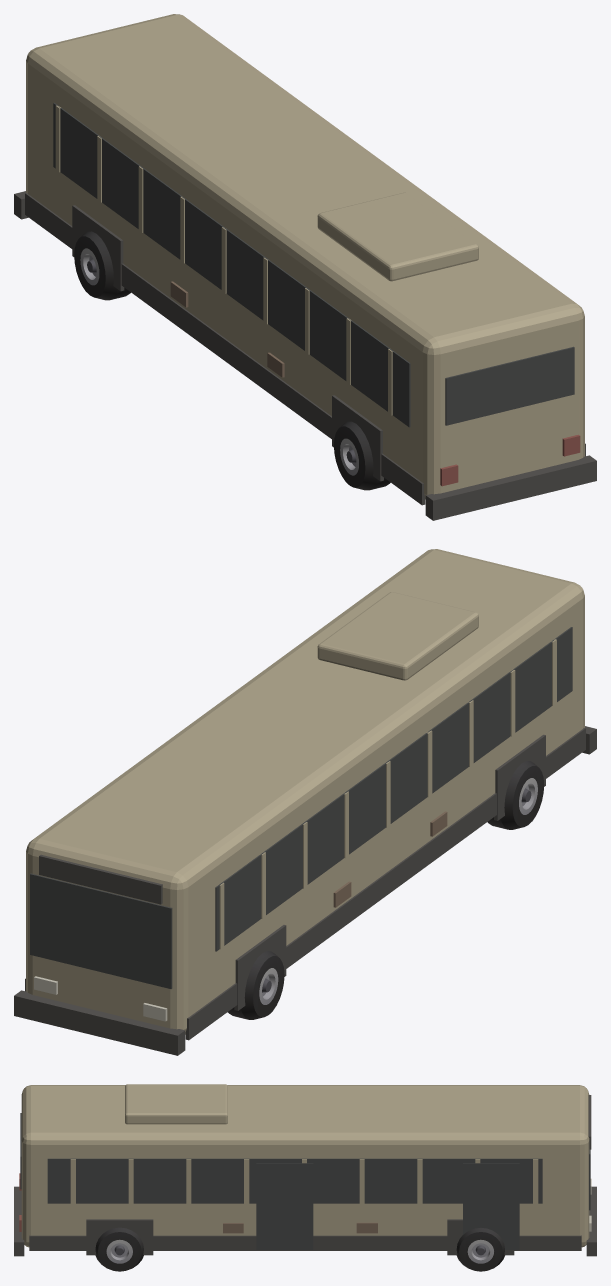
The model's file is bus.glb.
3 renders of one model, top to bottom at view 1: azimuth 30°, elevation 25°; view 2: azimuth 150°, elevation 25°; view 3: azimuth 270°, elevation 25°, orthographic. The views are drawn at different scales.
Visible parts, largest first — view 1: Cube, Cube.001, Cube.046, Cube.011, Cube.038, Cube.045, wheel-truck.001, wheel-truck, Cube.013, Cube.012; view 2: Cube, Cube.001, Cube.037, Cube.046, Cube.011, Cube.044, Cube.039, wheel-truck, wheel-truck.001, Cube.013, Cube.012; view 3: Cube, Cube.018, Cube.028, Cube.036, Cube.046, Cube.035, wheel-truck.002, wheel-truck.003, Cube.029, Cube.045, Cube.030, Cube.044 (+7 smaller).
Boxes of the visible parts, box(x1,y1,x2,y2) form: Cube: box(26, 14, 584, 499); Cube.001: box(53, 102, 410, 427); Cube.046: box(317, 192, 478, 281); Cube.011: box(25, 193, 425, 505); Cube.038: box(445, 346, 574, 425); Cube.045: box(425, 455, 596, 520); wheel-truck.001: box(74, 231, 130, 300); wheel-truck: box(334, 421, 390, 490); Cube.013: box(72, 205, 124, 291); Cube.012: box(332, 395, 383, 481); Cube: box(26, 549, 584, 1034); Cube.001: box(215, 627, 572, 951); Cube.037: box(30, 873, 172, 988); Cube.046: box(317, 592, 478, 680); Cube.011: box(185, 728, 585, 1040); Cube.044: box(14, 990, 185, 1055); Cube.039: box(39, 854, 162, 904); wheel-truck: box(487, 761, 544, 829); wheel-truck.001: box(227, 951, 284, 1019); Cube.013: box(234, 925, 286, 1010); Cube.012: box(494, 734, 545, 820); Cube: box(21, 1085, 589, 1247); Cube.018: box(47, 1158, 542, 1203); Cube.028: box(29, 1235, 581, 1250); Cube.036: box(256, 1163, 313, 1249); Cube.046: box(125, 1084, 227, 1124); Cube.035: box(463, 1163, 519, 1249); wheel-truck.002: box(95, 1227, 143, 1271); wheel-truck.003: box(456, 1228, 504, 1271); Cube.029: box(86, 1219, 153, 1255); Cube.045: box(14, 1186, 24, 1256); Cube.030: box(447, 1219, 514, 1255); Cube.044: box(586, 1186, 596, 1256).
Size of the model in its own units: 2.78 by 3.13 by 11.3.
Materials: 10 (4 with a texture image).
